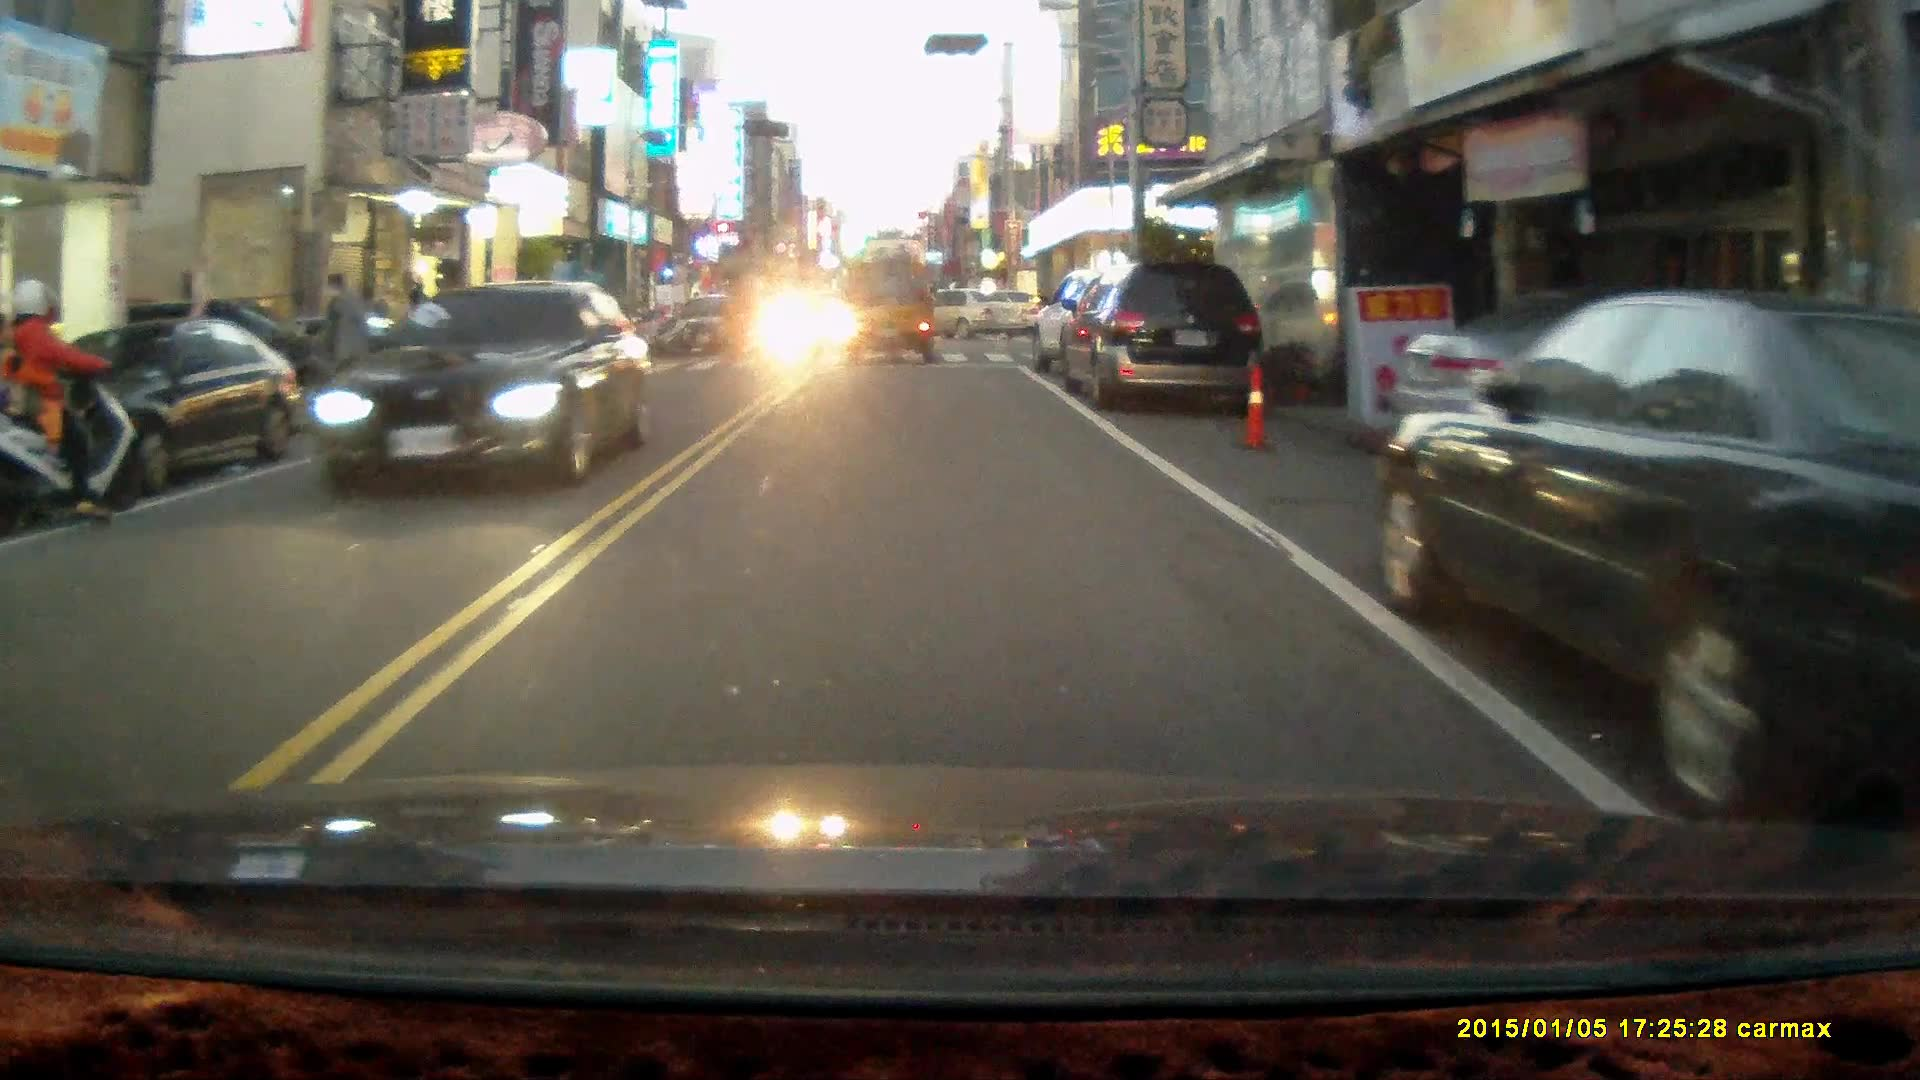pedestrian: (315, 267, 367, 419)
rider: (0, 273, 150, 534)
vehicle: (1380, 292, 1920, 818), (1383, 290, 1806, 489), (313, 278, 653, 503), (1055, 255, 1266, 413), (1029, 266, 1208, 386), (843, 257, 937, 363), (883, 285, 1025, 342), (670, 299, 752, 358)
